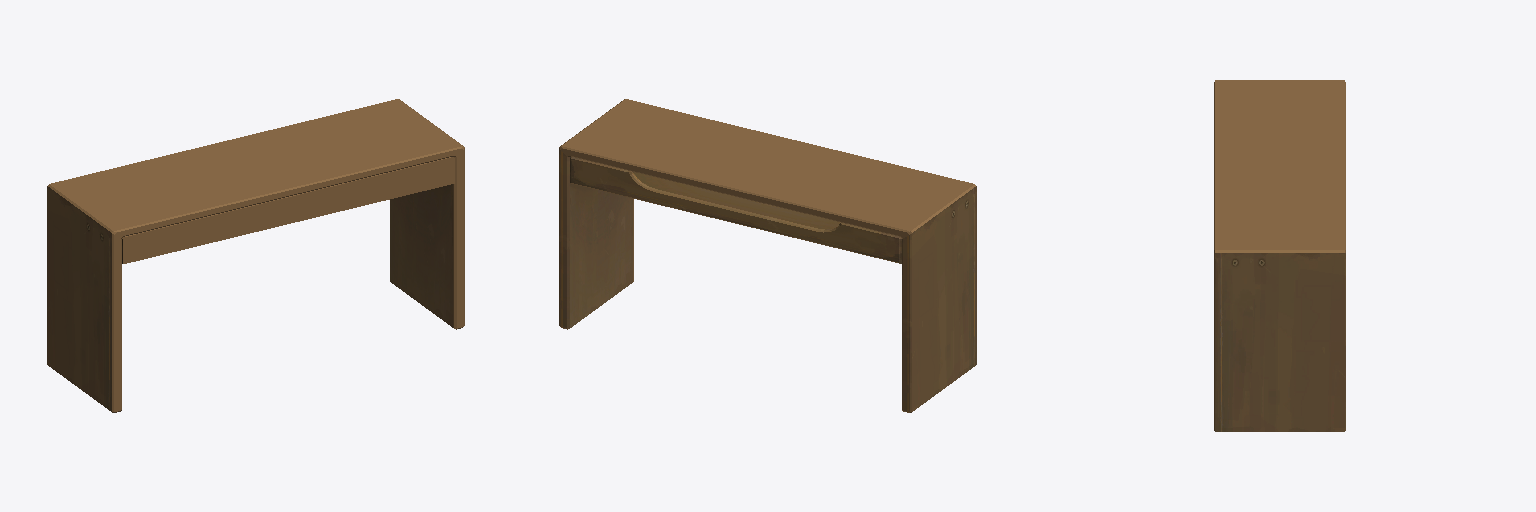
3 views of the same model, side by side, from view 1: azimuth 30°, elevation 25°; view 2: azimuth 150°, elevation 25°; view 3: azimuth 270°, elevation 25° (orthographic).
Parts seen in each view (by area): view 1: Escritorio_H1; view 2: Escritorio_H1; view 3: Escritorio_H1.
Boxes of the visible parts, x1,y1,x2,y2 form: Escritorio_H1: [47, 99, 464, 412]; Escritorio_H1: [559, 99, 976, 412]; Escritorio_H1: [1214, 80, 1345, 431].
Bounding box in the file's own units: 1.13 × 0.5541 × 0.3633.
Materials: 1 (1 with a texture image).